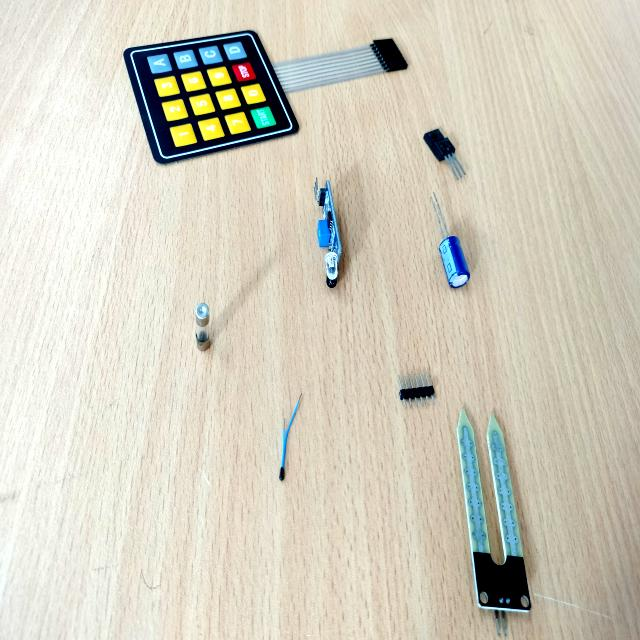capacitor: (439, 236, 470, 288)
